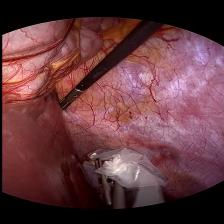Grasper: (52, 89, 82, 112)
Specimen Bag: (82, 146, 169, 208)
